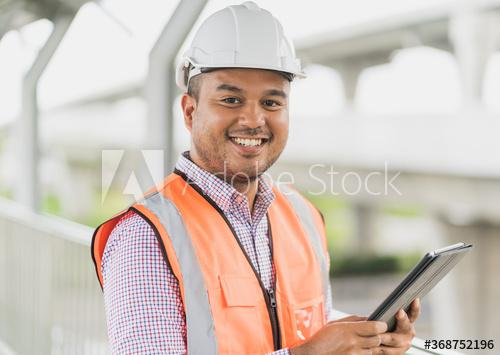hardhat: (176, 2, 314, 86)
worker: (91, 3, 423, 355)
